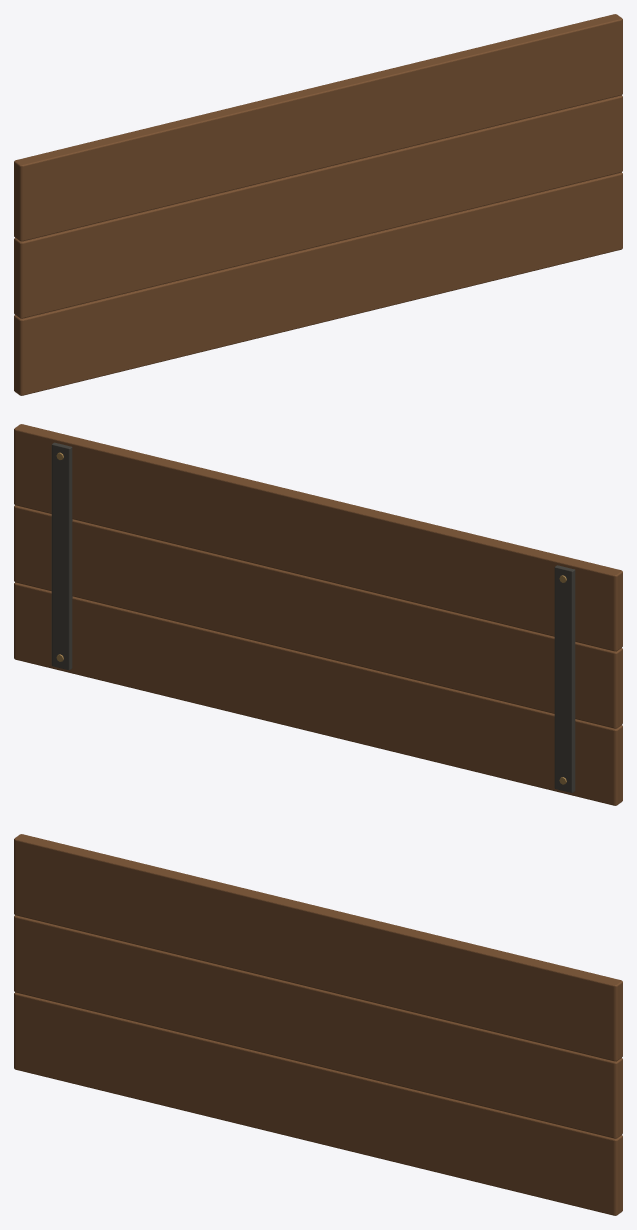
Rendered from merchant_shutter_leaf.fbx.
The picture shows the model from 3 angles, top to bottom: view 1: azimuth 30°, elevation 25°; view 2: azimuth 150°, elevation 25°; view 3: azimuth 330°, elevation 25°; orthographic projection.
Visible parts, largest first — view 1: merchant_shutter_leaf_DarkWood; view 2: merchant_shutter_leaf_DarkWood, merchant_shutter_leaf_ForgedIron; view 3: merchant_shutter_leaf_DarkWood.
Part boxes in pixels (box(x1,y1,x2,y2)): merchant_shutter_leaf_DarkWood: box(14, 14, 622, 395); merchant_shutter_leaf_DarkWood: box(14, 424, 622, 805); merchant_shutter_leaf_ForgedIron: box(51, 442, 575, 792); merchant_shutter_leaf_DarkWood: box(14, 834, 622, 1215).
Size of the model in its own units: 72 by 26.3 by 2.3.
